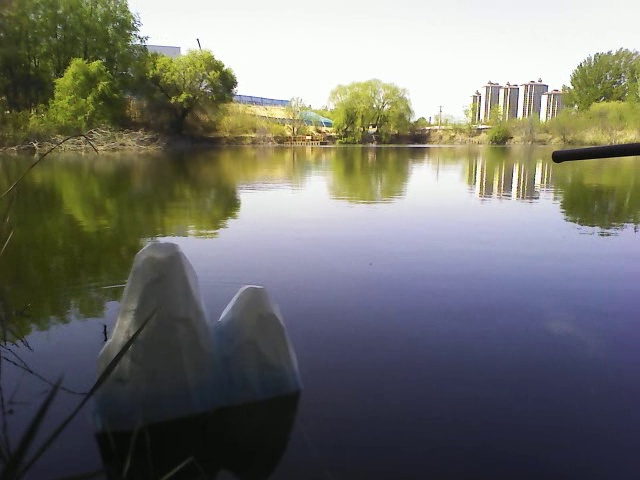iceberg: (92, 240, 311, 432)
